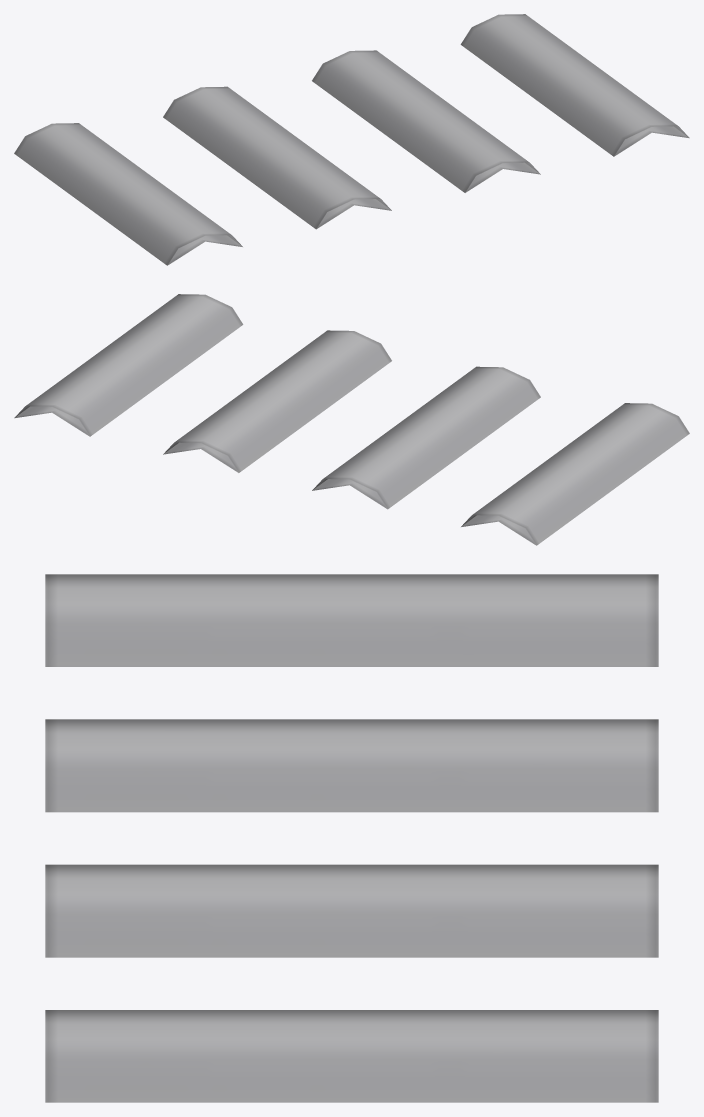
The model's file is jsf_GasJetCover_03.fbx.
The picture shows the model from 3 angles, top to bottom: view 1: azimuth 30°, elevation 25°; view 2: azimuth 150°, elevation 25°; view 3: azimuth 270°, elevation 25°; orthographic projection. The views are drawn at different scales.
Parts seen in each view (by area): view 1: jsf_GasJetCover_03; view 2: jsf_GasJetCover_03; view 3: jsf_GasJetCover_03.
Boxes of the visible parts, x1,y1,x2,y2 form: jsf_GasJetCover_03: (14, 14, 689, 265); jsf_GasJetCover_03: (14, 294, 689, 545); jsf_GasJetCover_03: (45, 574, 658, 1102).
Bounding box in the file's own units: 65.38 × 2.48 × 33.23.
